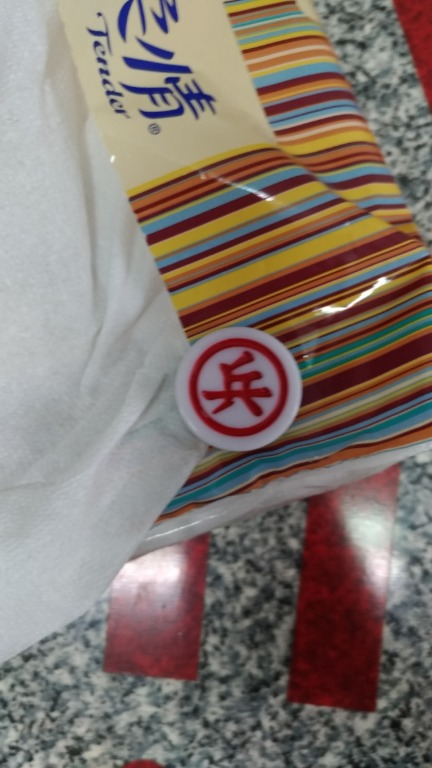r-pawn: (169, 322, 313, 451)
